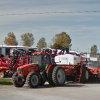Tractor: (11, 43, 71, 98)
